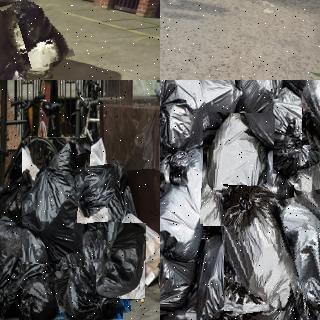Garbage: (220, 183, 298, 313), (21, 137, 90, 265), (202, 112, 274, 227), (52, 229, 127, 320), (275, 190, 320, 320), (160, 146, 211, 260), (160, 80, 239, 146), (4, 0, 71, 68), (96, 223, 146, 299), (266, 105, 320, 168), (214, 80, 289, 117), (76, 165, 122, 223), (12, 274, 64, 320), (0, 0, 24, 80), (0, 215, 21, 291), (12, 42, 53, 79), (298, 80, 320, 148)
